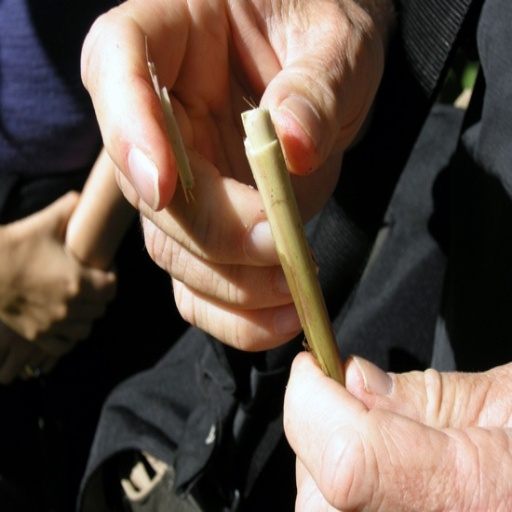hand: (80, 0, 383, 352), (282, 348, 511, 510), (0, 188, 116, 357), (0, 325, 55, 382)
